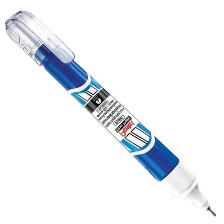correction_fluid: (4, 9, 217, 218)
